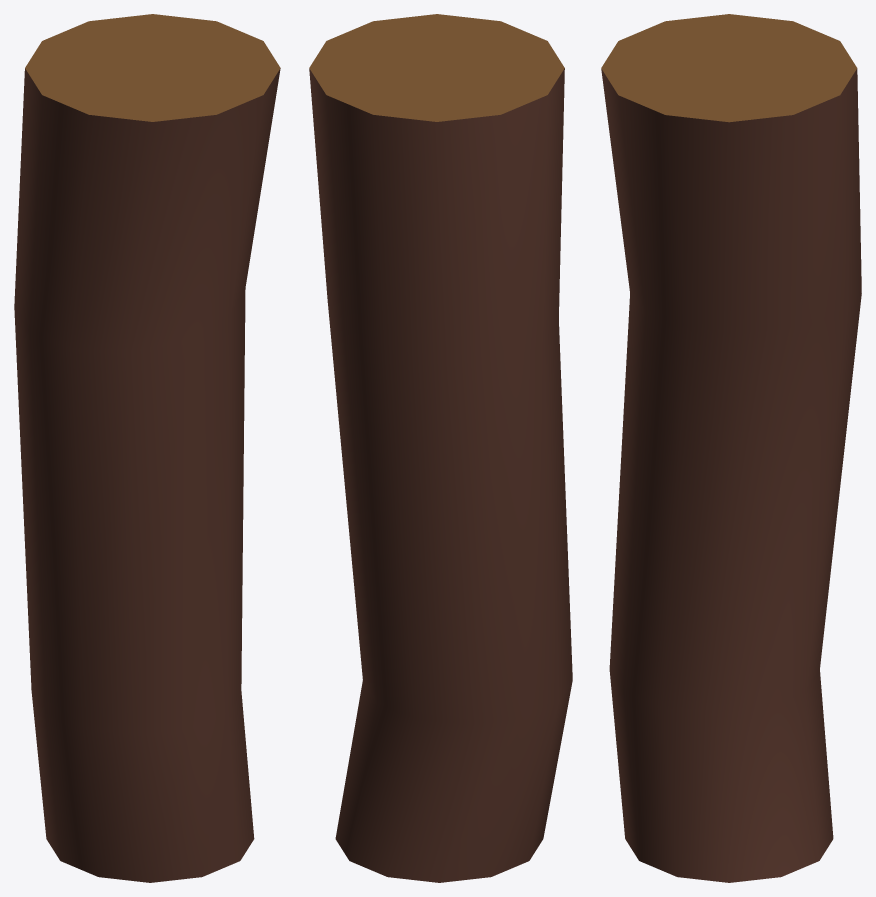
The model's file is WoodRoundFence_Pillar.fbx.
3 views of the same model, side by side, from view 1: azimuth 30°, elevation 25°; view 2: azimuth 150°, elevation 25°; view 3: azimuth 270°, elevation 25° (orthographic).
Visible parts, largest first — view 1: WoodRoundFence_Pillar; view 2: WoodRoundFence_Pillar; view 3: WoodRoundFence_Pillar.
Boxes of the visible parts, x1,y1,x2,y2 form: WoodRoundFence_Pillar: [14, 14, 280, 882]; WoodRoundFence_Pillar: [309, 14, 572, 882]; WoodRoundFence_Pillar: [601, 14, 861, 882].
Size of the model in its own units: 53.24 by 174 by 53.22.
